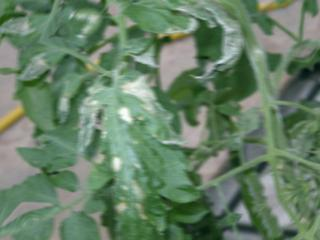Tomato leaf bacterial spot: (50, 56, 220, 240)
